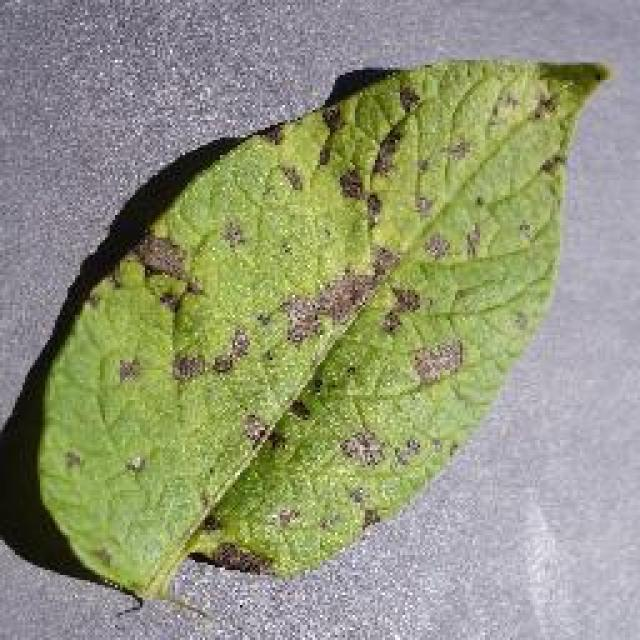early_blight: (17, 52, 615, 608)
